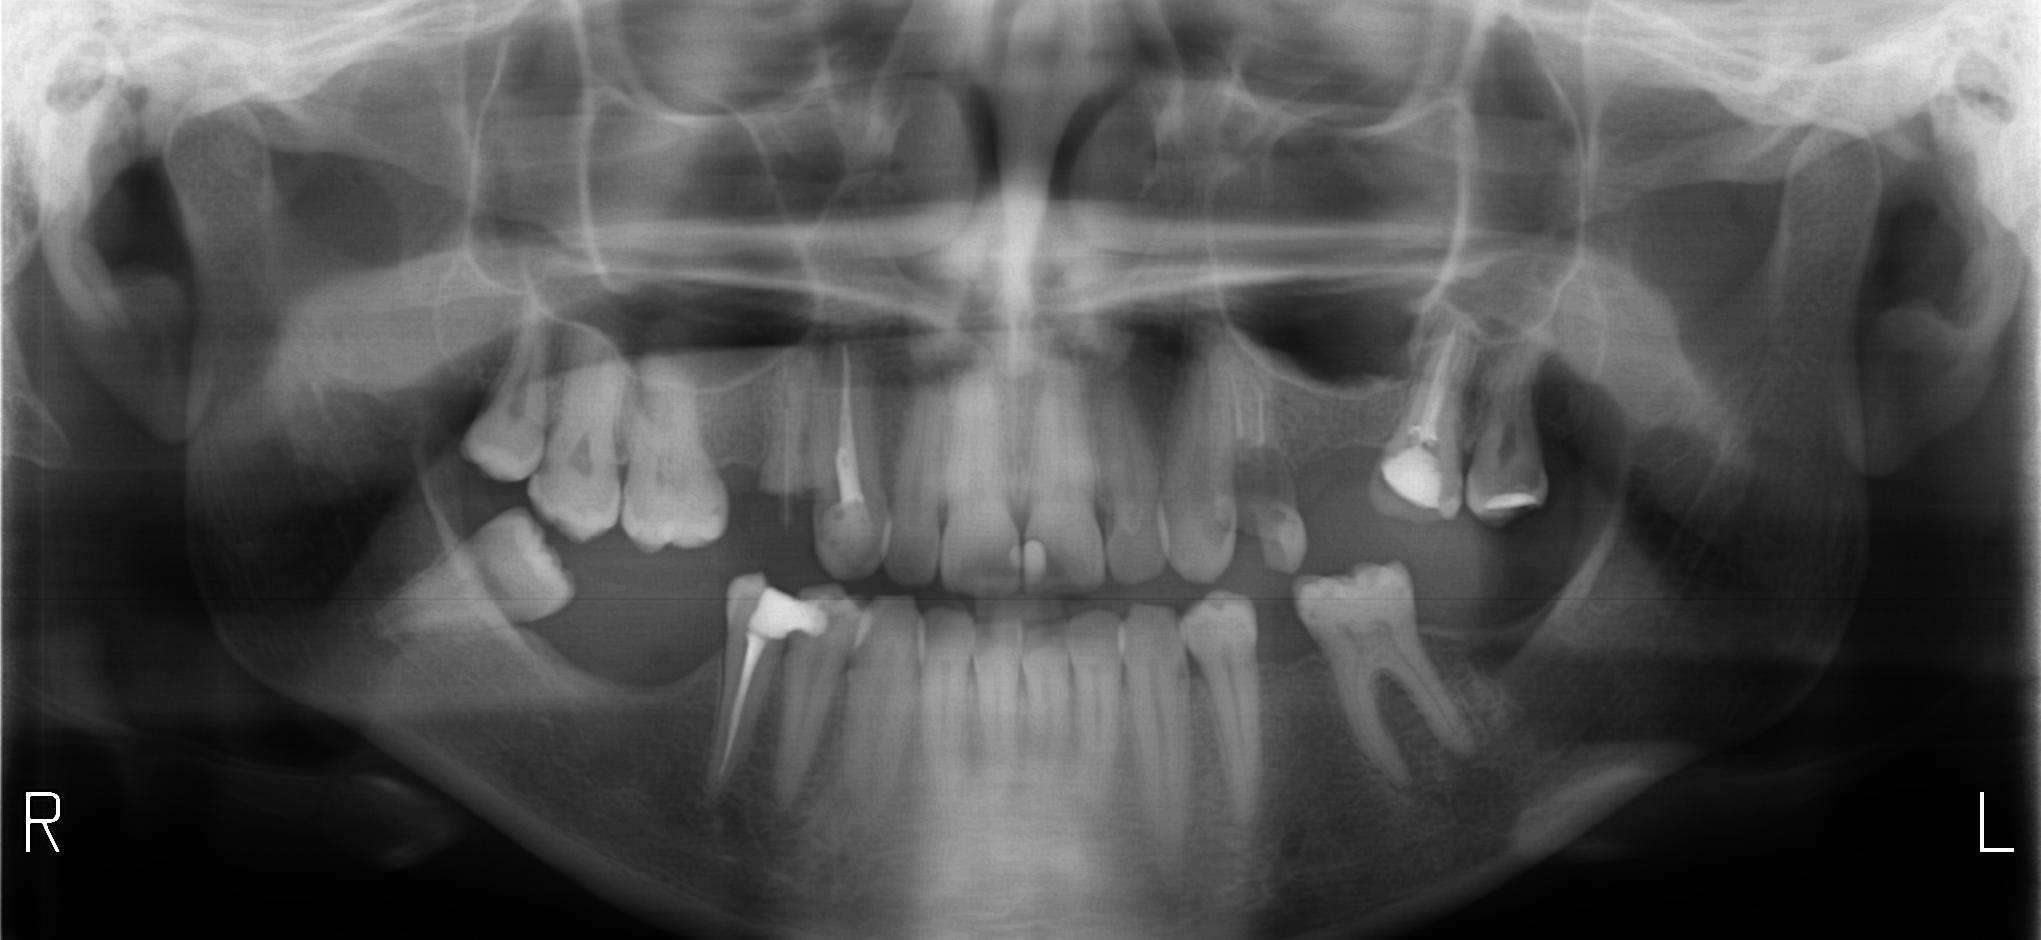cavity: (1044, 559, 1063, 573), (1309, 612, 1315, 615)
